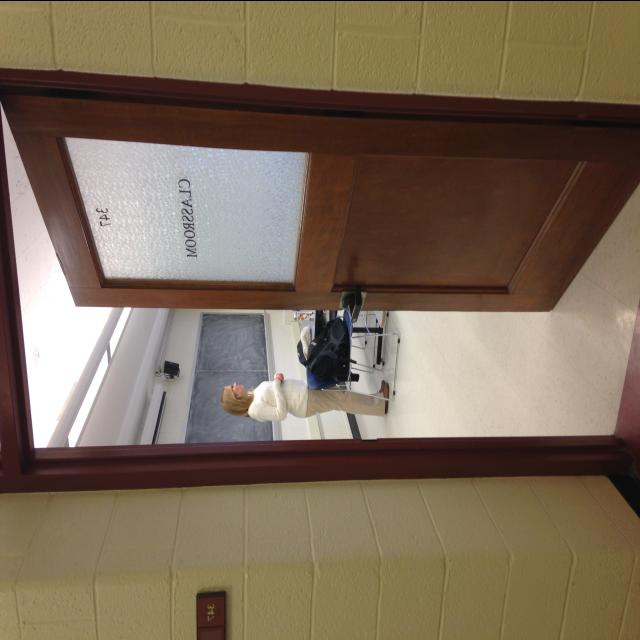open: (0, 80, 630, 476)
